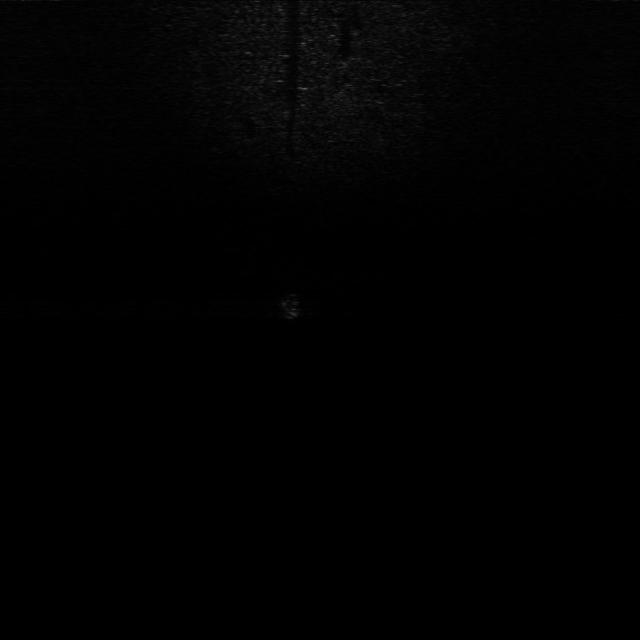human body: (274, 281, 312, 324)
